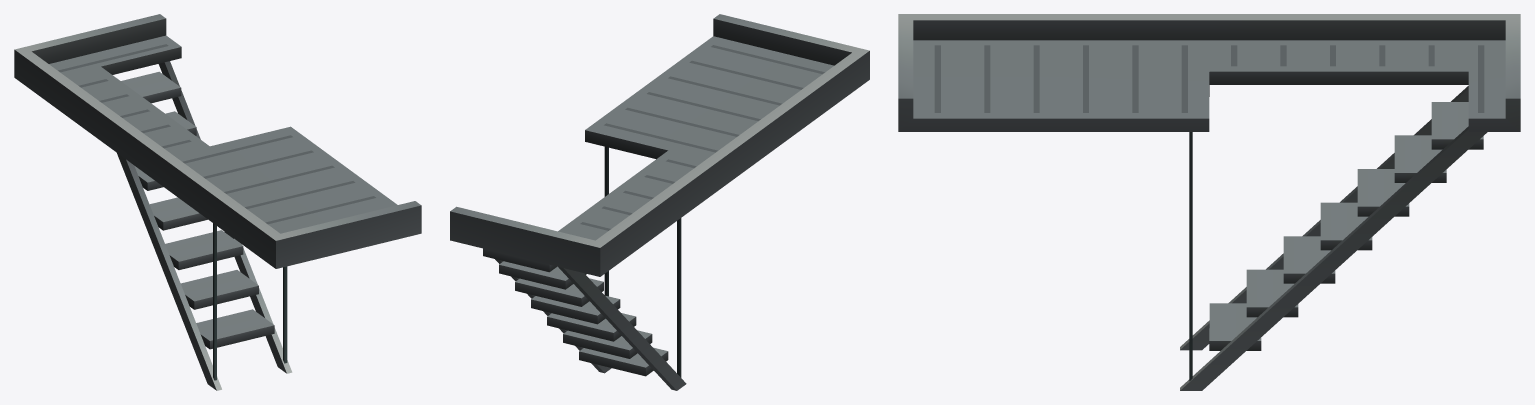
Rendered from Emergency_Stairs_1B.fbx.
3 views of the same model, side by side, from view 1: azimuth 30°, elevation 25°; view 2: azimuth 150°, elevation 25°; view 3: azimuth 270°, elevation 25° (orthographic). The views are drawn at different scales.
Parts seen in each view (by area): view 1: Emergency_Stairs_1B; view 2: Emergency_Stairs_1B; view 3: Emergency_Stairs_1B.
Boxes of the visible parts, box(x1,y1,x2,y2) form: Emergency_Stairs_1B: box(14, 14, 421, 390); Emergency_Stairs_1B: box(450, 14, 869, 390); Emergency_Stairs_1B: box(898, 14, 1520, 390).
Bounding box in the file's own units: 270 × 445 × 840.
